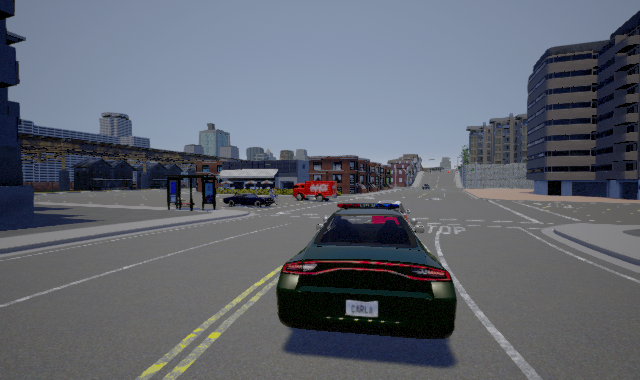vehicle: (276, 200, 457, 339), (292, 181, 337, 202), (223, 193, 278, 208)
